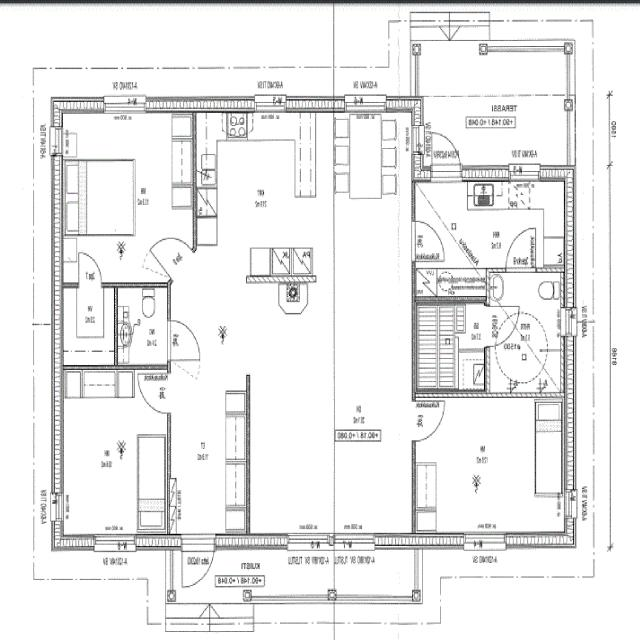door: (150, 221, 194, 280), (182, 534, 215, 596), (432, 125, 462, 182), (484, 306, 520, 347), (167, 320, 202, 361), (412, 401, 446, 442), (506, 227, 536, 273), (412, 221, 446, 261), (138, 374, 171, 414), (78, 252, 102, 288)
